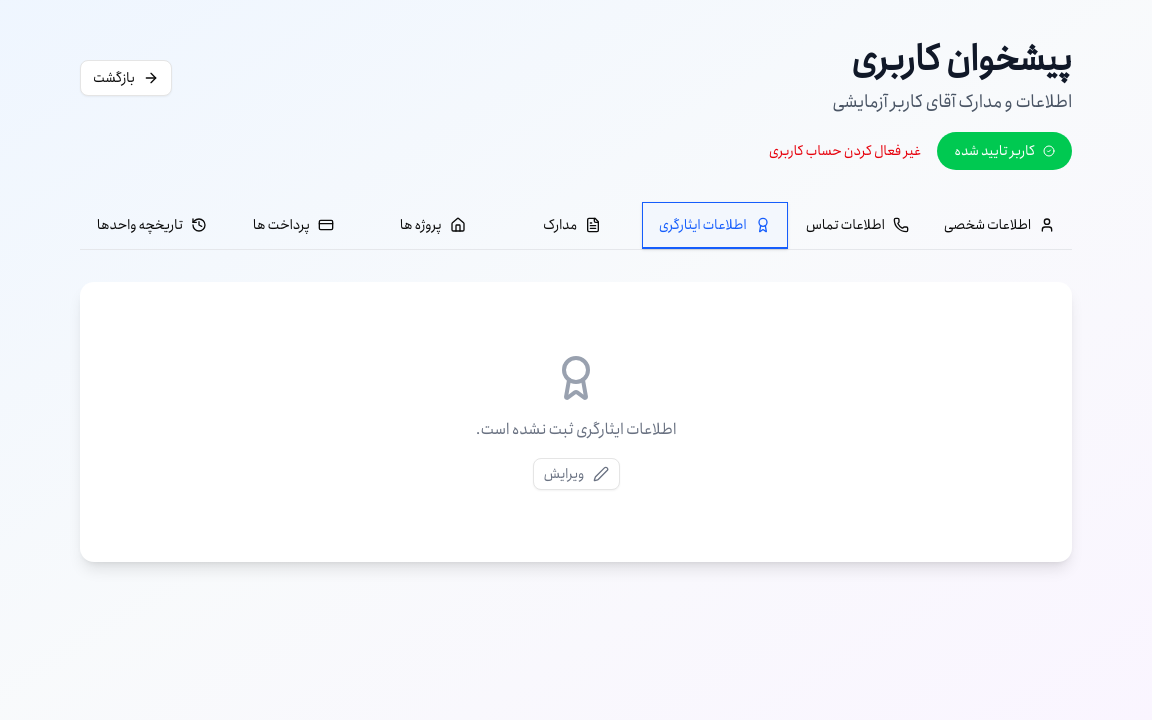
Test: ProfilePage isargary information › lets an admin edit selected-user isargary information when the type is none
Step 1. Click the button "ویرایش" → (576, 474), box [532, 458, 620, 490]
(page scrolled)
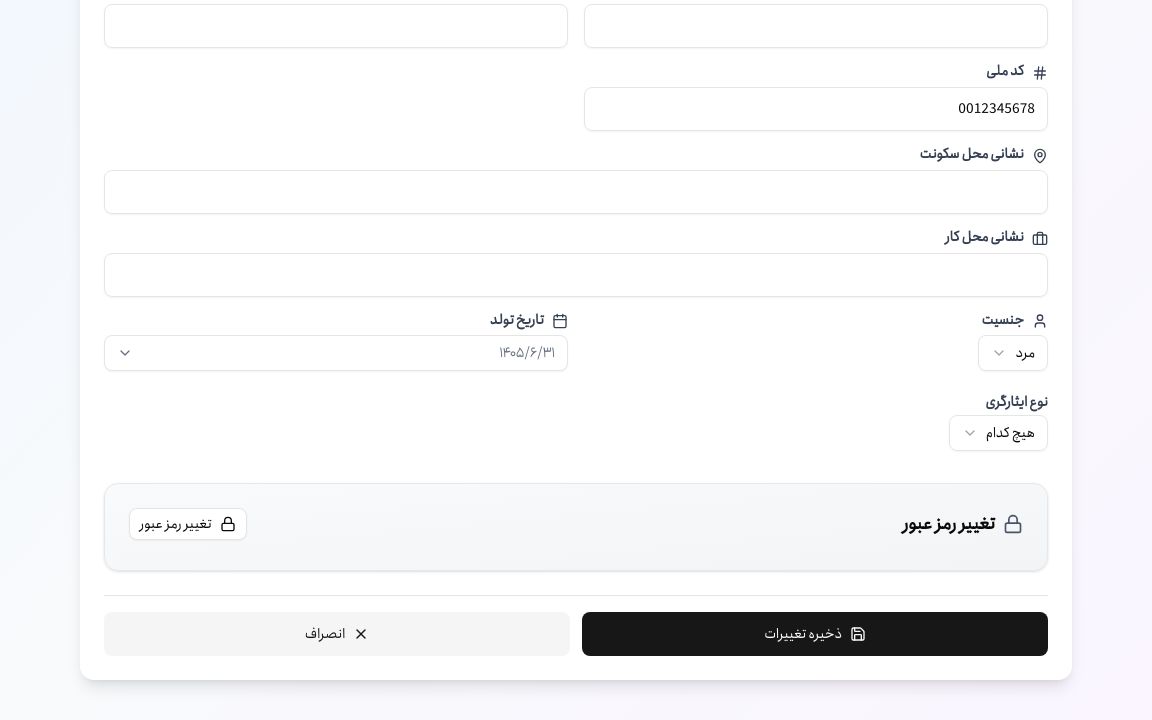
Result: the dropdown named "نوع ایثارگری" is shown at [949, 415, 1048, 451]
